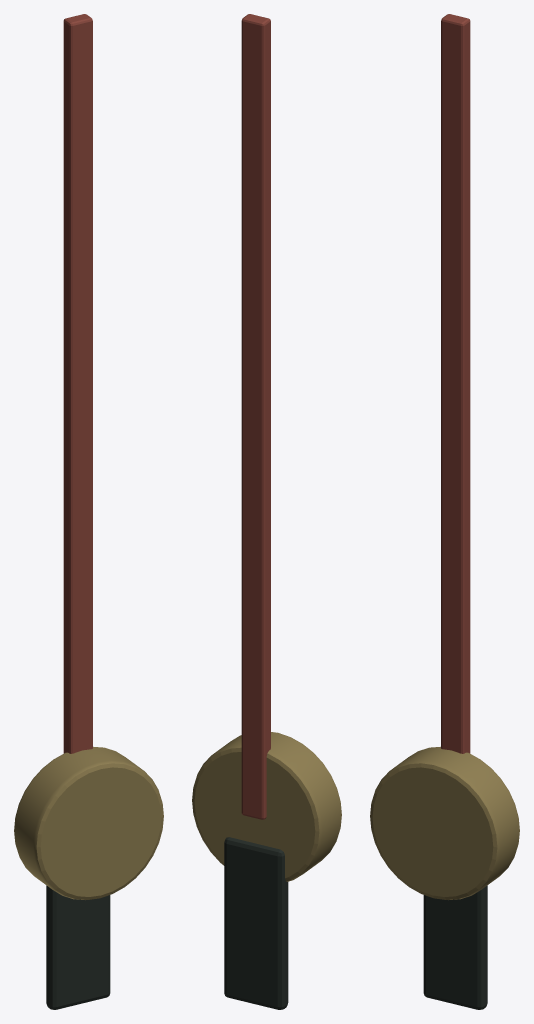
File: FLOW_Needle.fbx
3 views of the same model, side by side, from view 1: azimuth 30°, elevation 25°; view 2: azimuth 150°, elevation 25°; view 3: azimuth 330°, elevation 25° (orthographic).
Parts seen in each view (by area): view 1: FLOW_Needle_EXPORT; view 2: FLOW_Needle_EXPORT; view 3: FLOW_Needle_EXPORT.
Boxes of the visible parts, bbox=[...] form: FLOW_Needle_EXPORT: bbox=[14, 14, 163, 1009]; FLOW_Needle_EXPORT: bbox=[192, 14, 341, 1009]; FLOW_Needle_EXPORT: bbox=[370, 14, 519, 1009].
Bounding box in the file's own units: 0.028 × 0.2025 × 0.01.
